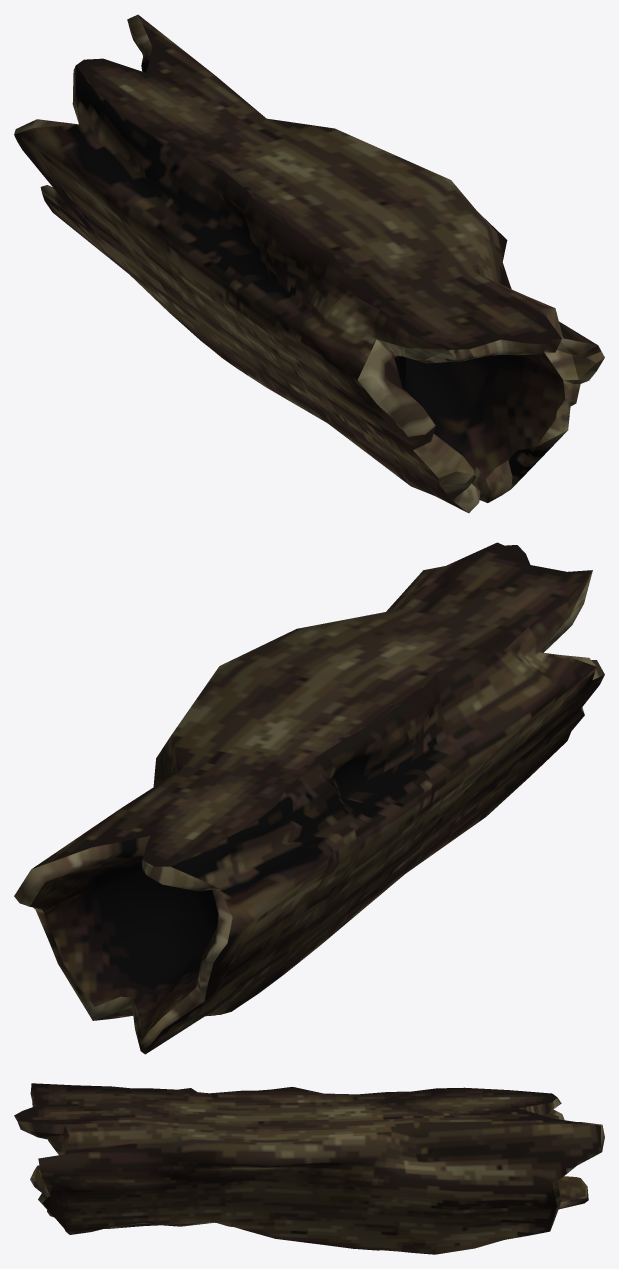
Rendered from EnvFldMD_FallenTree_A_Spline_A_NoCollision.FBX.
The picture shows the model from 3 angles, top to bottom: view 1: azimuth 30°, elevation 25°; view 2: azimuth 150°, elevation 25°; view 3: azimuth 270°, elevation 25°; orthographic projection. The views are drawn at different scales.
Parts seen in each view (by area): view 1: EnvFldMD_FallenTree_A_Spline_A_NoCollision; view 2: EnvFldMD_FallenTree_A_Spline_A_NoCollision; view 3: EnvFldMD_FallenTree_A_Spline_A_NoCollision.
Boxes of the visible parts, x1,y1,x2,y2 form: EnvFldMD_FallenTree_A_Spline_A_NoCollision: (14,14,604,513); EnvFldMD_FallenTree_A_Spline_A_NoCollision: (14,542,604,1054); EnvFldMD_FallenTree_A_Spline_A_NoCollision: (14,1083,604,1254).
Size of the model in its own units: 194 by 170 by 606.
Materials: 1 (1 with a texture image).
